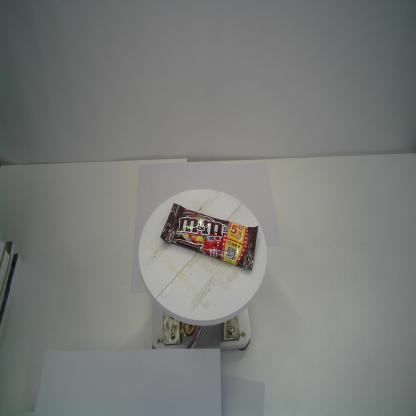Chocolate: (160, 204, 259, 272)
